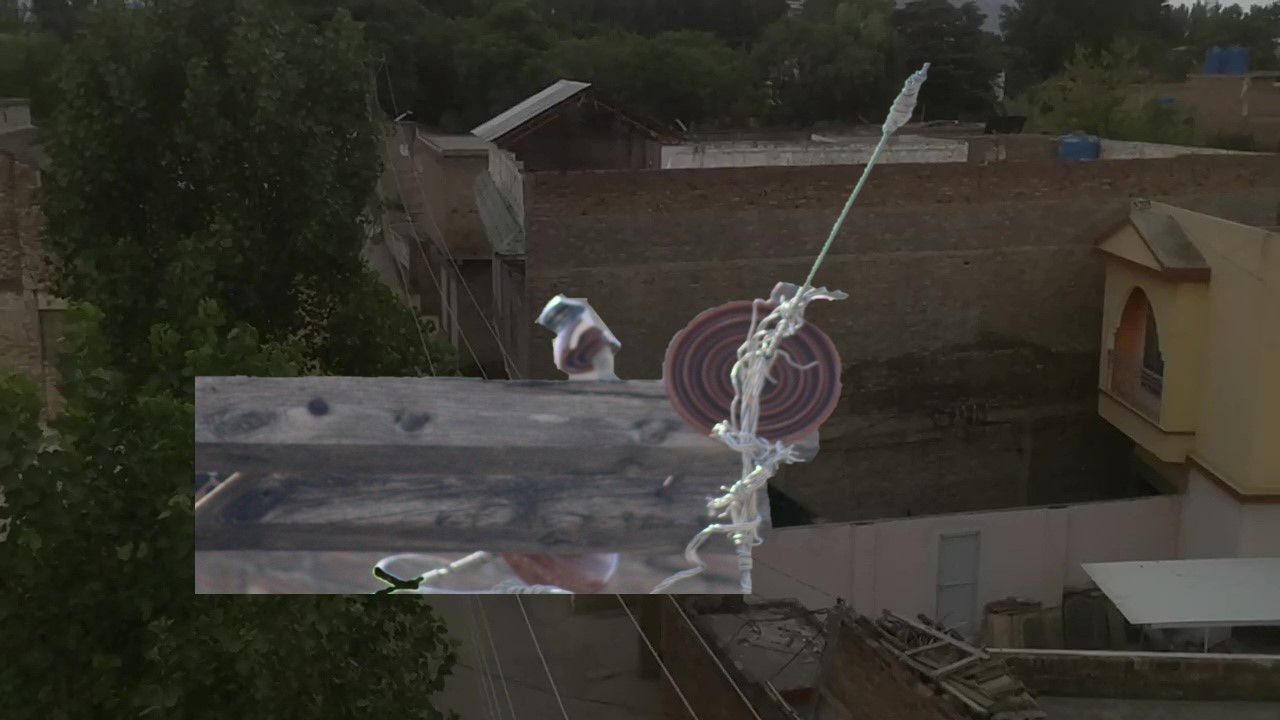defect_pin: (531, 283, 624, 380)
insulator_disc: (659, 294, 850, 449)
